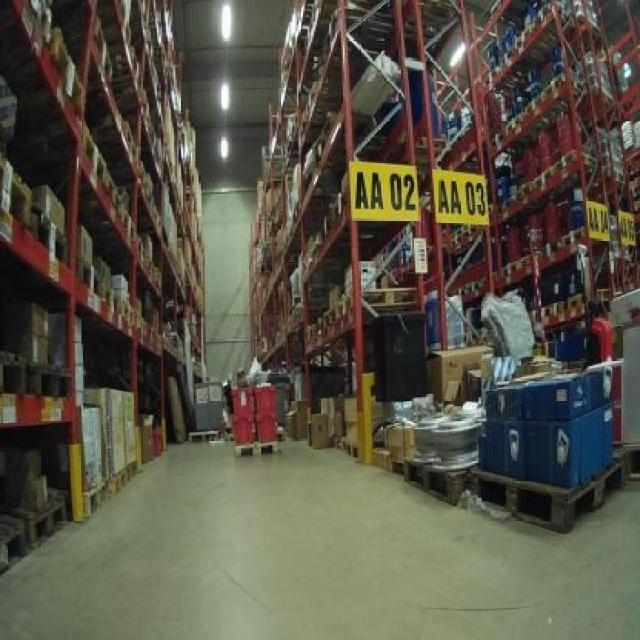floor: (0, 440, 637, 637)
pallets: (468, 365, 620, 529), (229, 383, 274, 451)
